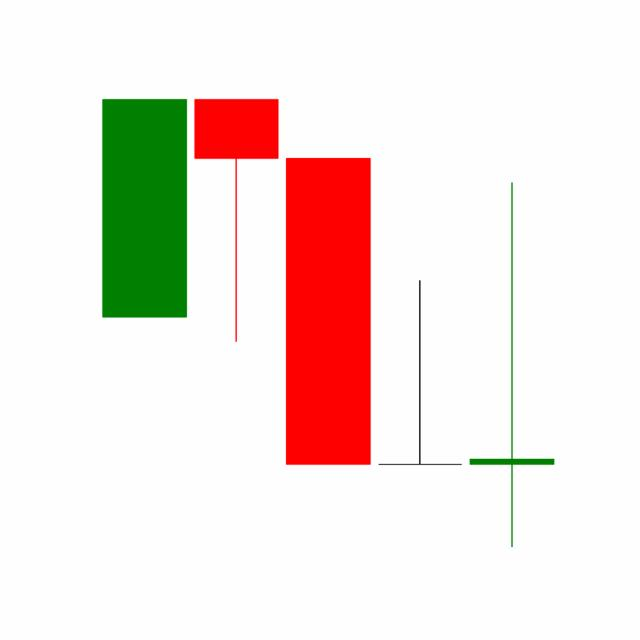Spinning Top: (373, 277, 467, 466)
